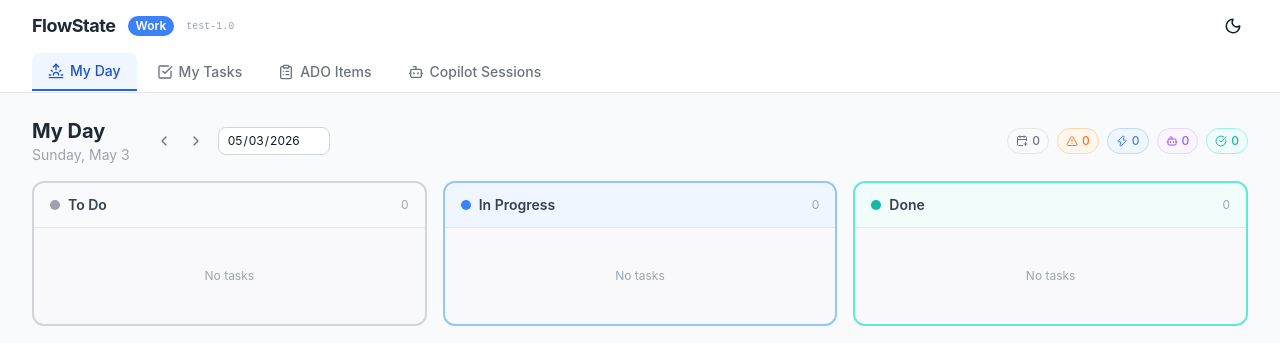
App › switches to Sessions tab
The width and height of the screenshot is (1280, 343).
Click the button "Copilot Sessions": (474, 72) [392,53,557,91]
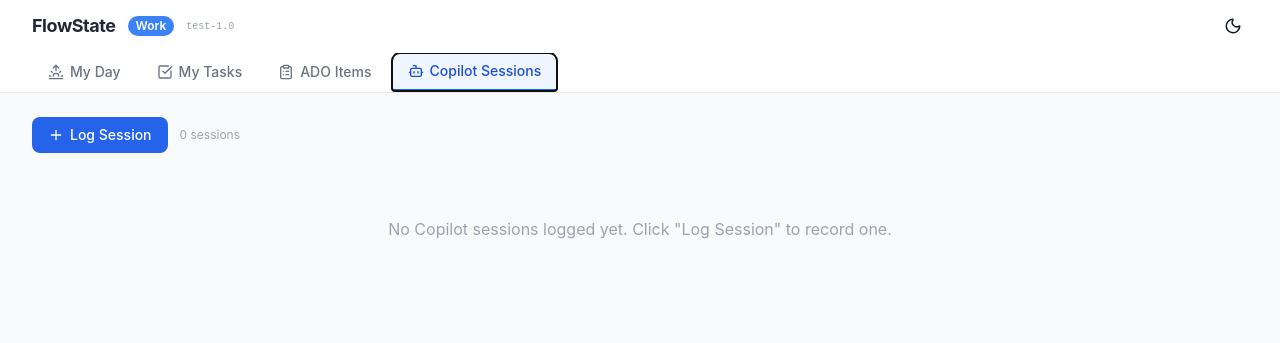
Expected: the button "Log Session" is shown, [32,117,168,153]
